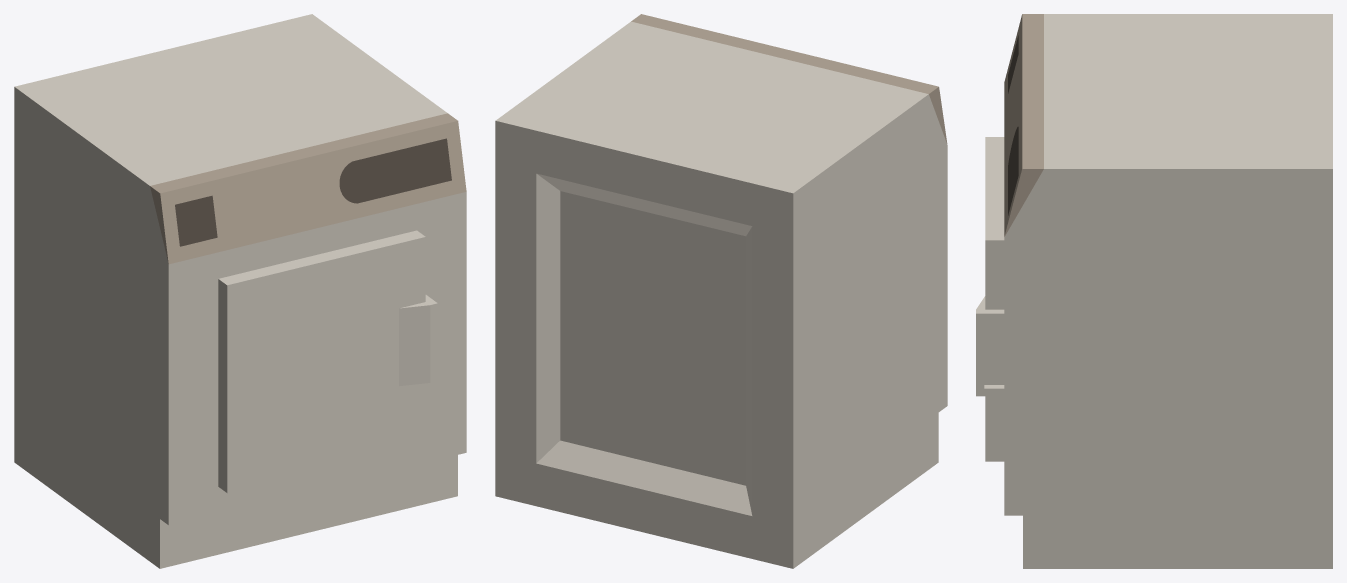
Rendered from kitDryer.glb.
3 renders of one model, left to right at view 1: azimuth 30°, elevation 25°; view 2: azimuth 150°, elevation 25°; view 3: azimuth 270°, elevation 25°, orthographic. The views are drawn at different scales.
Visible parts, largest first — view 1: kitDryer_metalLight, kitDryer_metalMedium, kitDryer_metalDark; view 2: kitDryer_metalLight, kitDryer_metalMedium; view 3: kitDryer_metalLight, kitDryer_metalMedium, kitDryer_metalDark.
Boxes of the visible parts, x1,y1,x2,y2 form: kitDryer_metalLight: (14, 14, 466, 568); kitDryer_metalMedium: (150, 113, 466, 264); kitDryer_metalDark: (175, 138, 451, 246); kitDryer_metalLight: (495, 21, 947, 568); kitDryer_metalMedium: (631, 14, 947, 143); kitDryer_metalLight: (976, 14, 1332, 568); kitDryer_metalMedium: (1004, 14, 1043, 236); kitDryer_metalDark: (1008, 35, 1018, 215).
Size of the model in its own units: 0.78 by 0.94 by 0.76.
